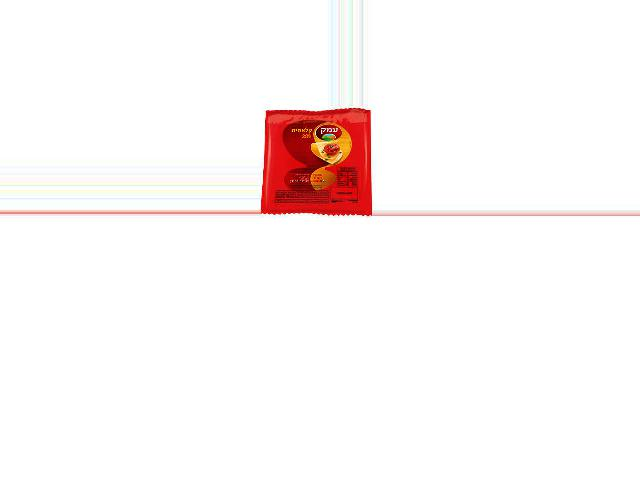cheese: (264, 109, 372, 216)
